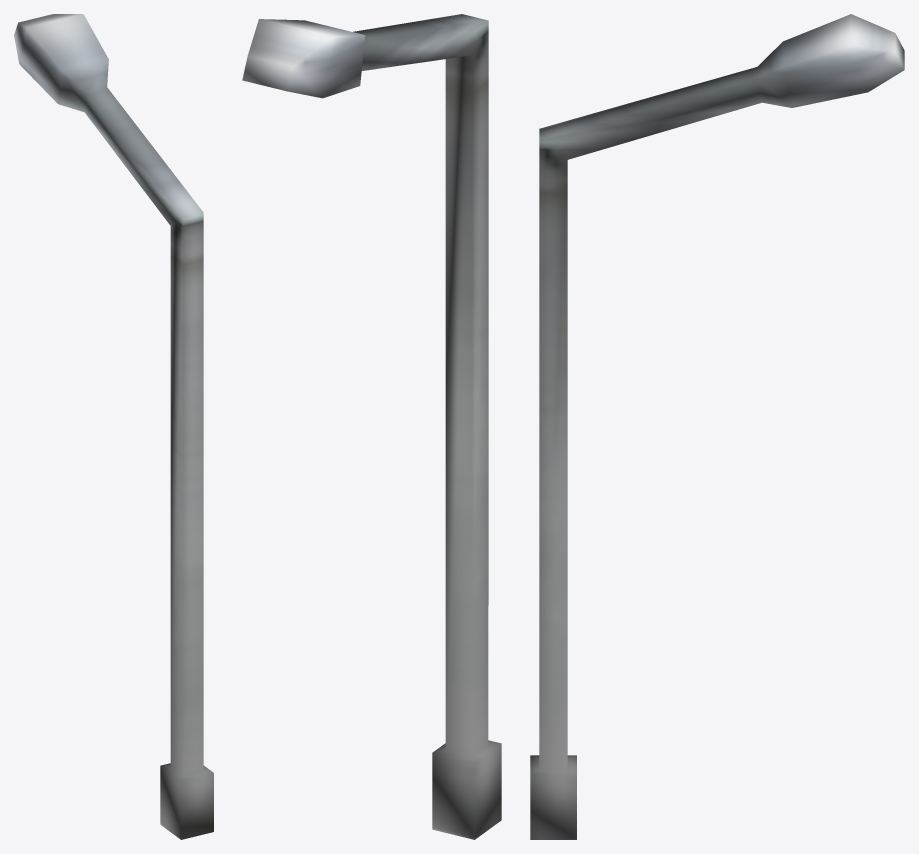
Rendered from sokaklambasi.fbx.
3 renders of one model, left to right at view 1: azimuth 30°, elevation 25°; view 2: azimuth 150°, elevation 25°; view 3: azimuth 270°, elevation 25°, orthographic. The views are drawn at different scales.
Parts seen in each view (by area): view 1: sokaklambasi; view 2: sokaklambasi; view 3: sokaklambasi.
Part boxes in pixels (box(x1,y1,x2,y2)): sokaklambasi: box(14, 14, 213, 839); sokaklambasi: box(242, 14, 501, 839); sokaklambasi: box(530, 14, 904, 839).
Size of the model in its own units: 0.4261 by 2.16 by 5.09.
1 material, 1 textured.
